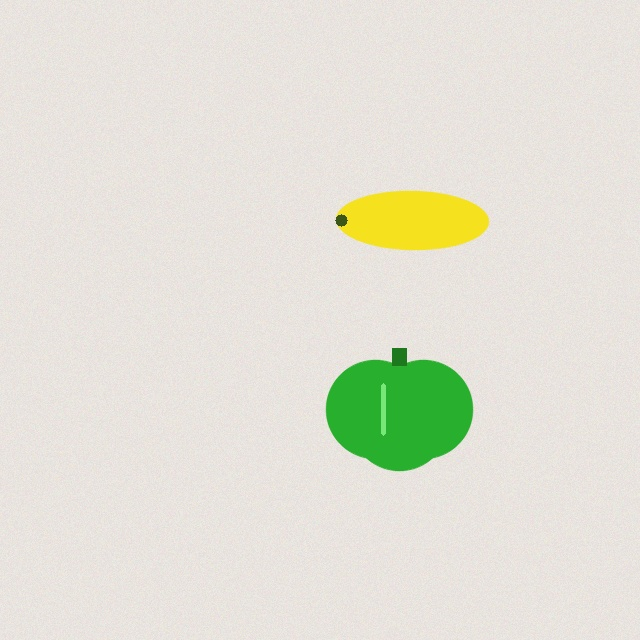Fresh banana: (333, 184, 491, 256)
Fresh bell pepper: (326, 348, 472, 470)
